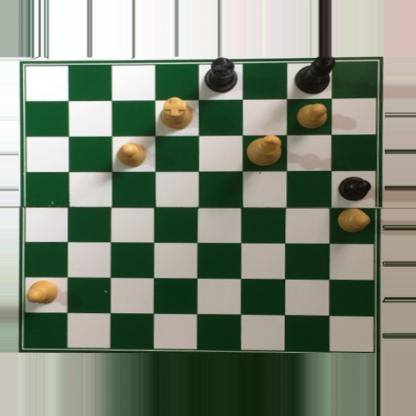black-king: (292, 57, 335, 97)
black-pawn: (336, 175, 372, 201)
black-rook: (204, 57, 239, 95)
white-king: (244, 134, 283, 168)
white-pawn: (335, 207, 371, 234), (25, 279, 59, 306), (296, 102, 327, 130), (115, 142, 148, 168)
white-rook: (158, 97, 194, 131)
